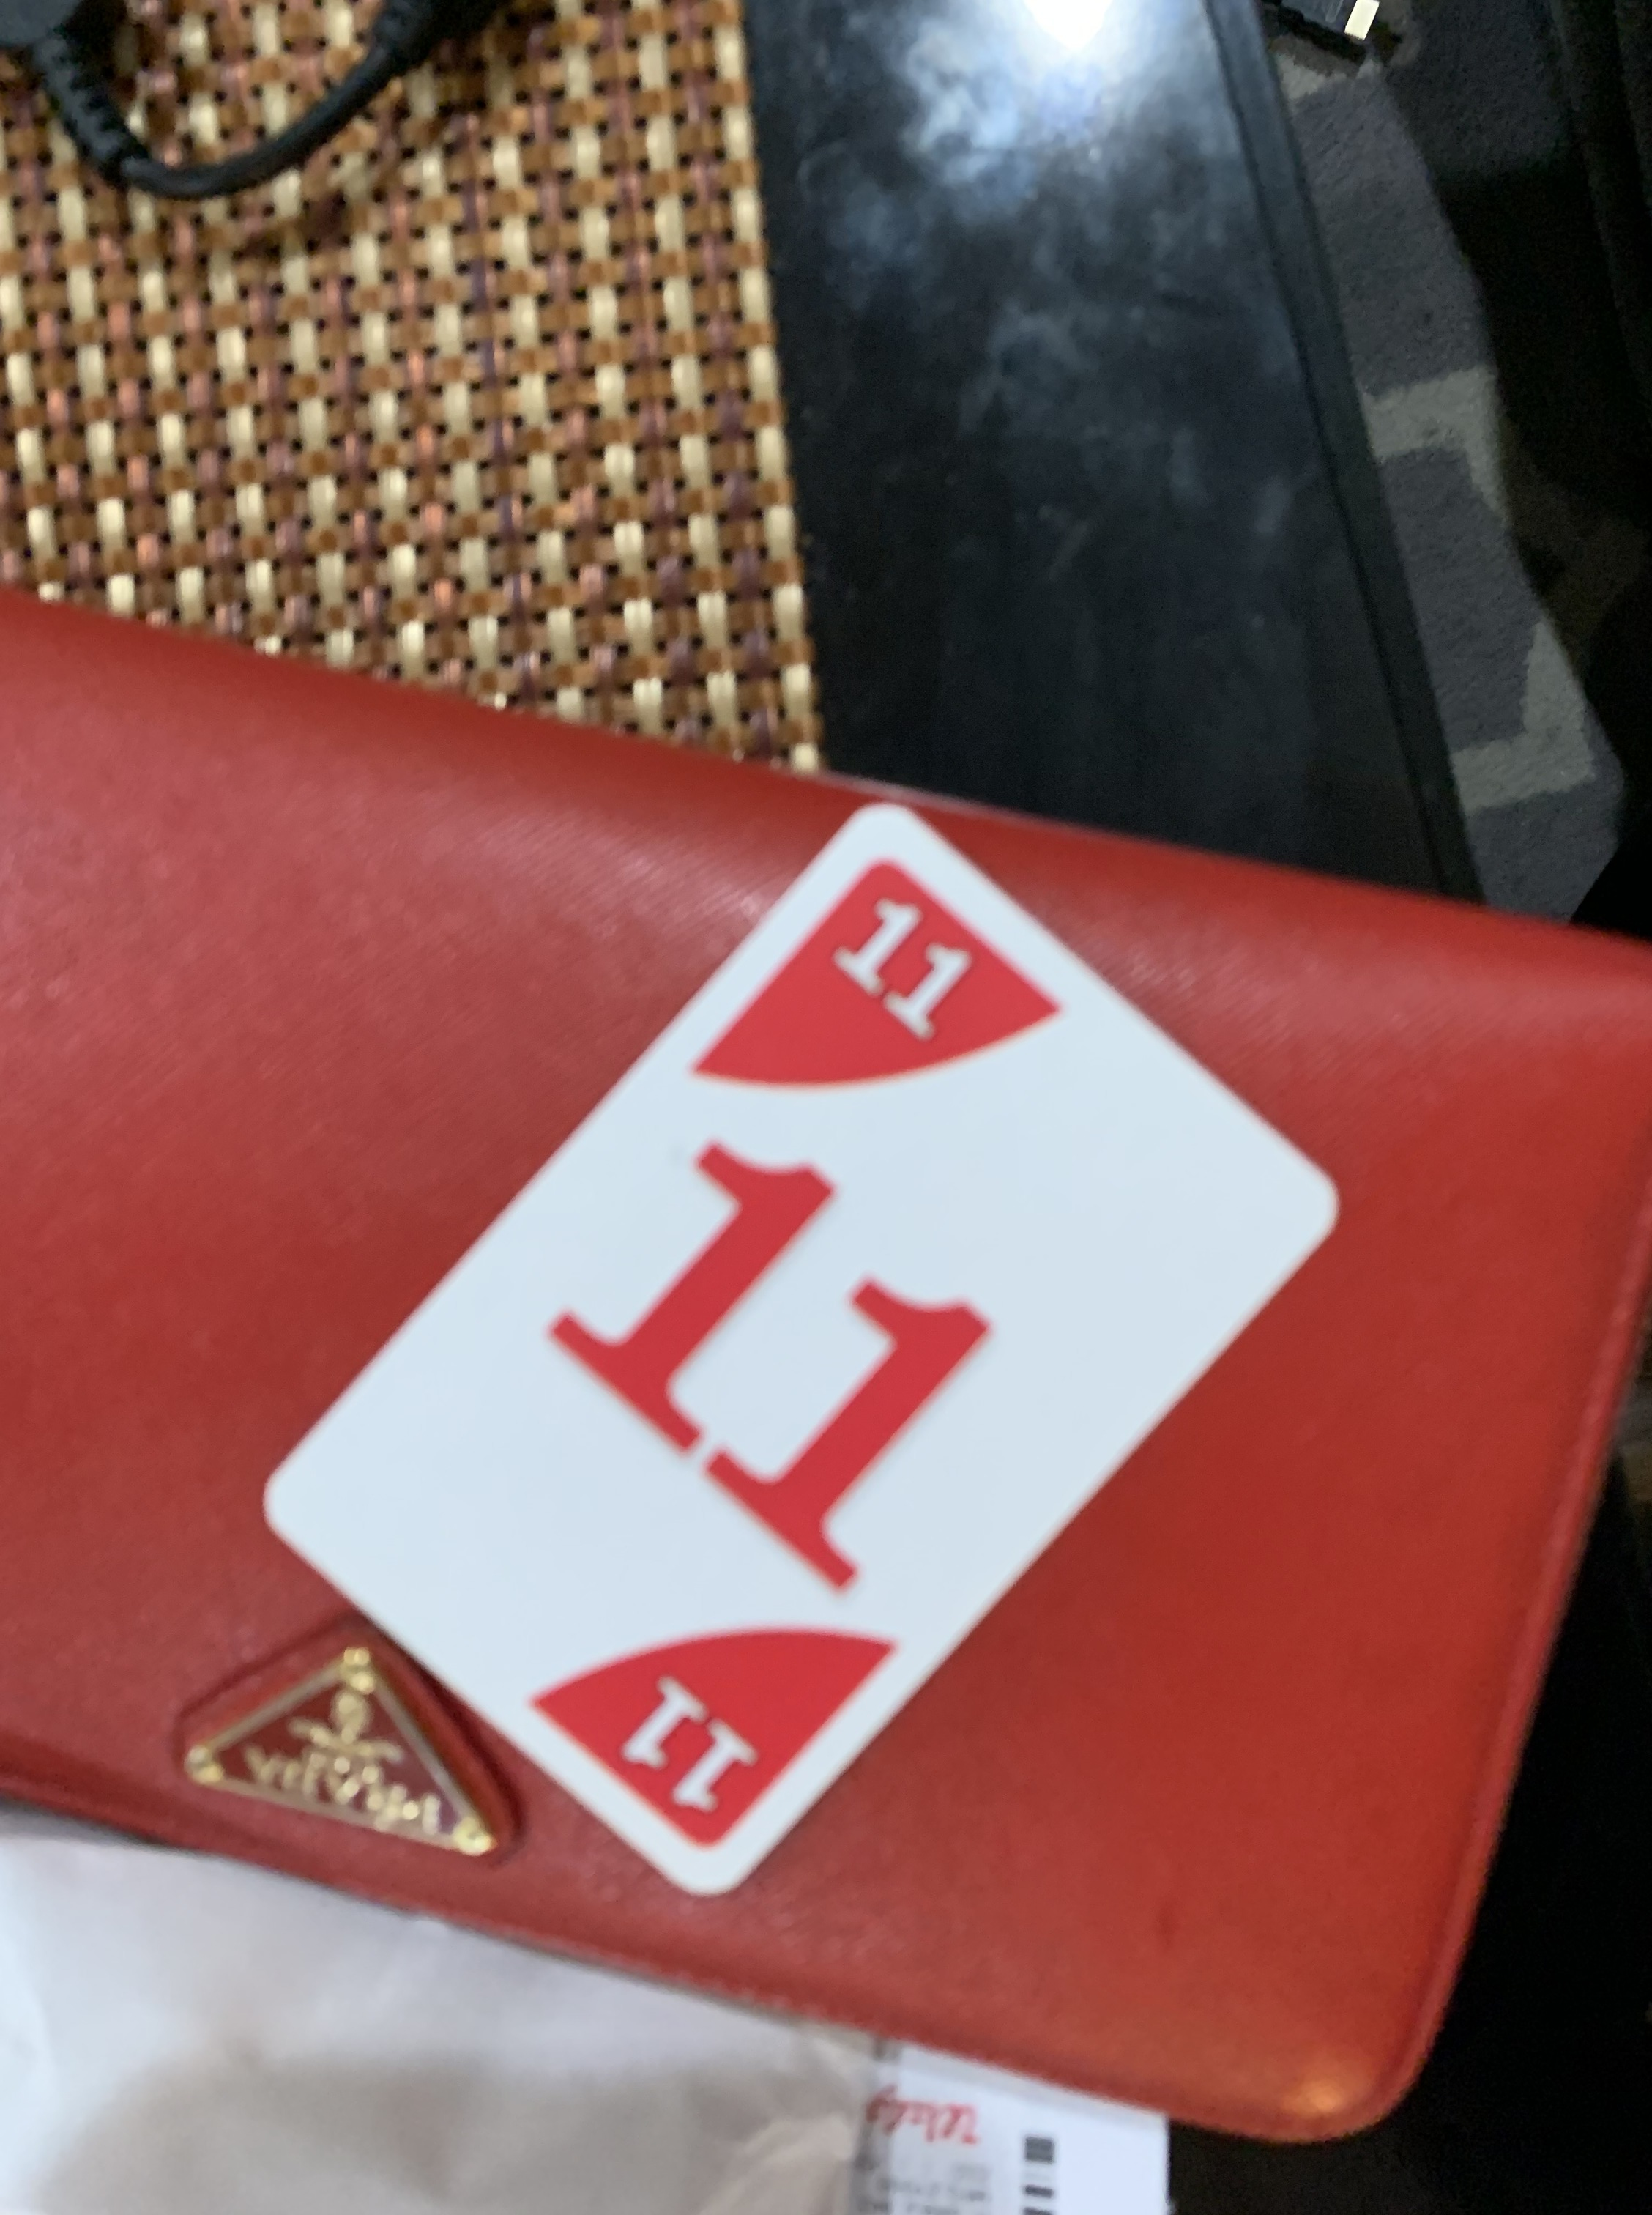eleven: (245, 774, 1360, 1936)
